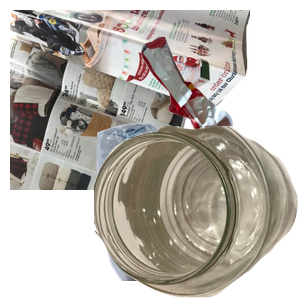glass: (94, 126, 300, 300)
paper: (10, 10, 250, 190)
plastic: (94, 120, 267, 300)
trash: (139, 34, 300, 167)
